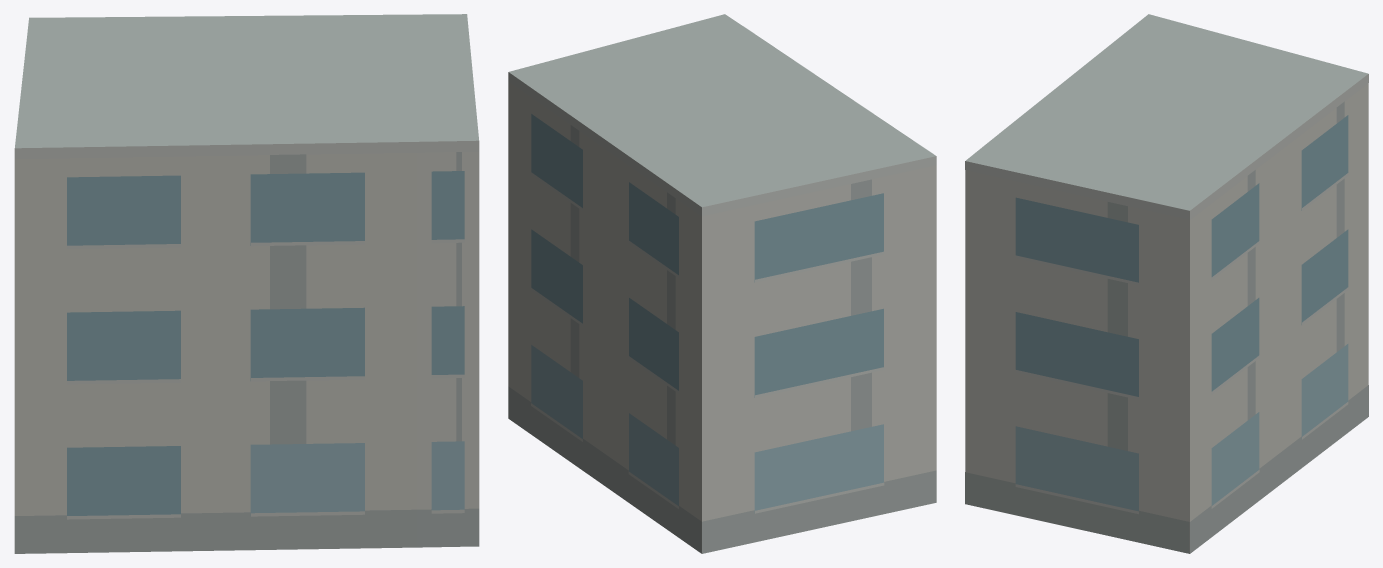
The model's file is survey-upis-32723572.glb.
3 views of the same model, side by side, from view 1: azimuth 30°, elevation 25°; view 2: azimuth 150°, elevation 25°; view 3: azimuth 270°, elevation 25° (orthographic). The views are drawn at different scales.
Parts seen in each view (by area): view 1: survey-upis-32723572.tmp; view 2: survey-upis-32723572.tmp; view 3: survey-upis-32723572.tmp.
Boxes of the visible parts, x1=… form: survey-upis-32723572.tmp: x1=14, y1=14, x2=479, y2=553; survey-upis-32723572.tmp: x1=508, y1=14, x2=936, y2=553; survey-upis-32723572.tmp: x1=965, y1=14, x2=1368, y2=553.
Size of the model in its own units: 11.27 by 9.15 by 9.76.
